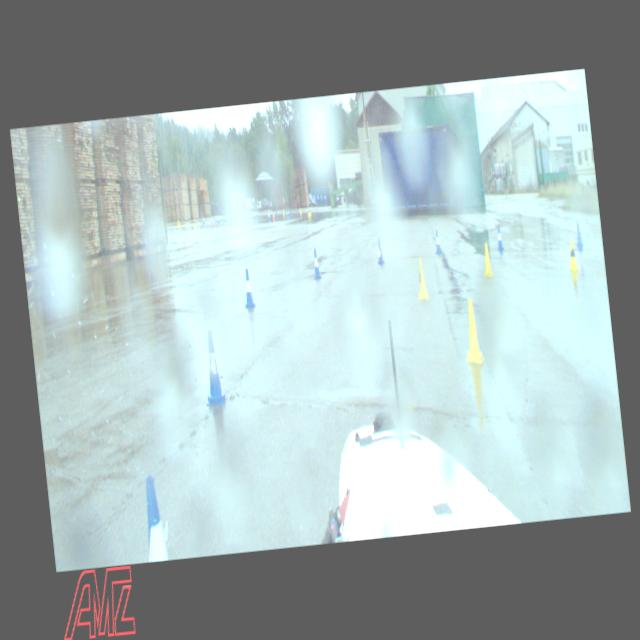blue_cone: (140, 471, 169, 562), (199, 329, 228, 407), (240, 268, 256, 310), (310, 247, 322, 280), (374, 236, 384, 266), (432, 230, 442, 256), (573, 221, 583, 247), (495, 225, 504, 252), (296, 210, 299, 218), (217, 215, 219, 224), (268, 212, 270, 220), (287, 208, 289, 216)
orange_cone: (272, 212, 275, 221), (212, 217, 215, 226)
yellow_cone: (460, 297, 484, 365), (414, 258, 429, 300), (480, 240, 494, 278), (566, 238, 578, 272), (193, 218, 196, 226), (299, 207, 302, 214), (282, 207, 285, 214), (309, 206, 311, 215), (178, 218, 180, 226), (308, 208, 310, 215), (186, 218, 188, 225)
